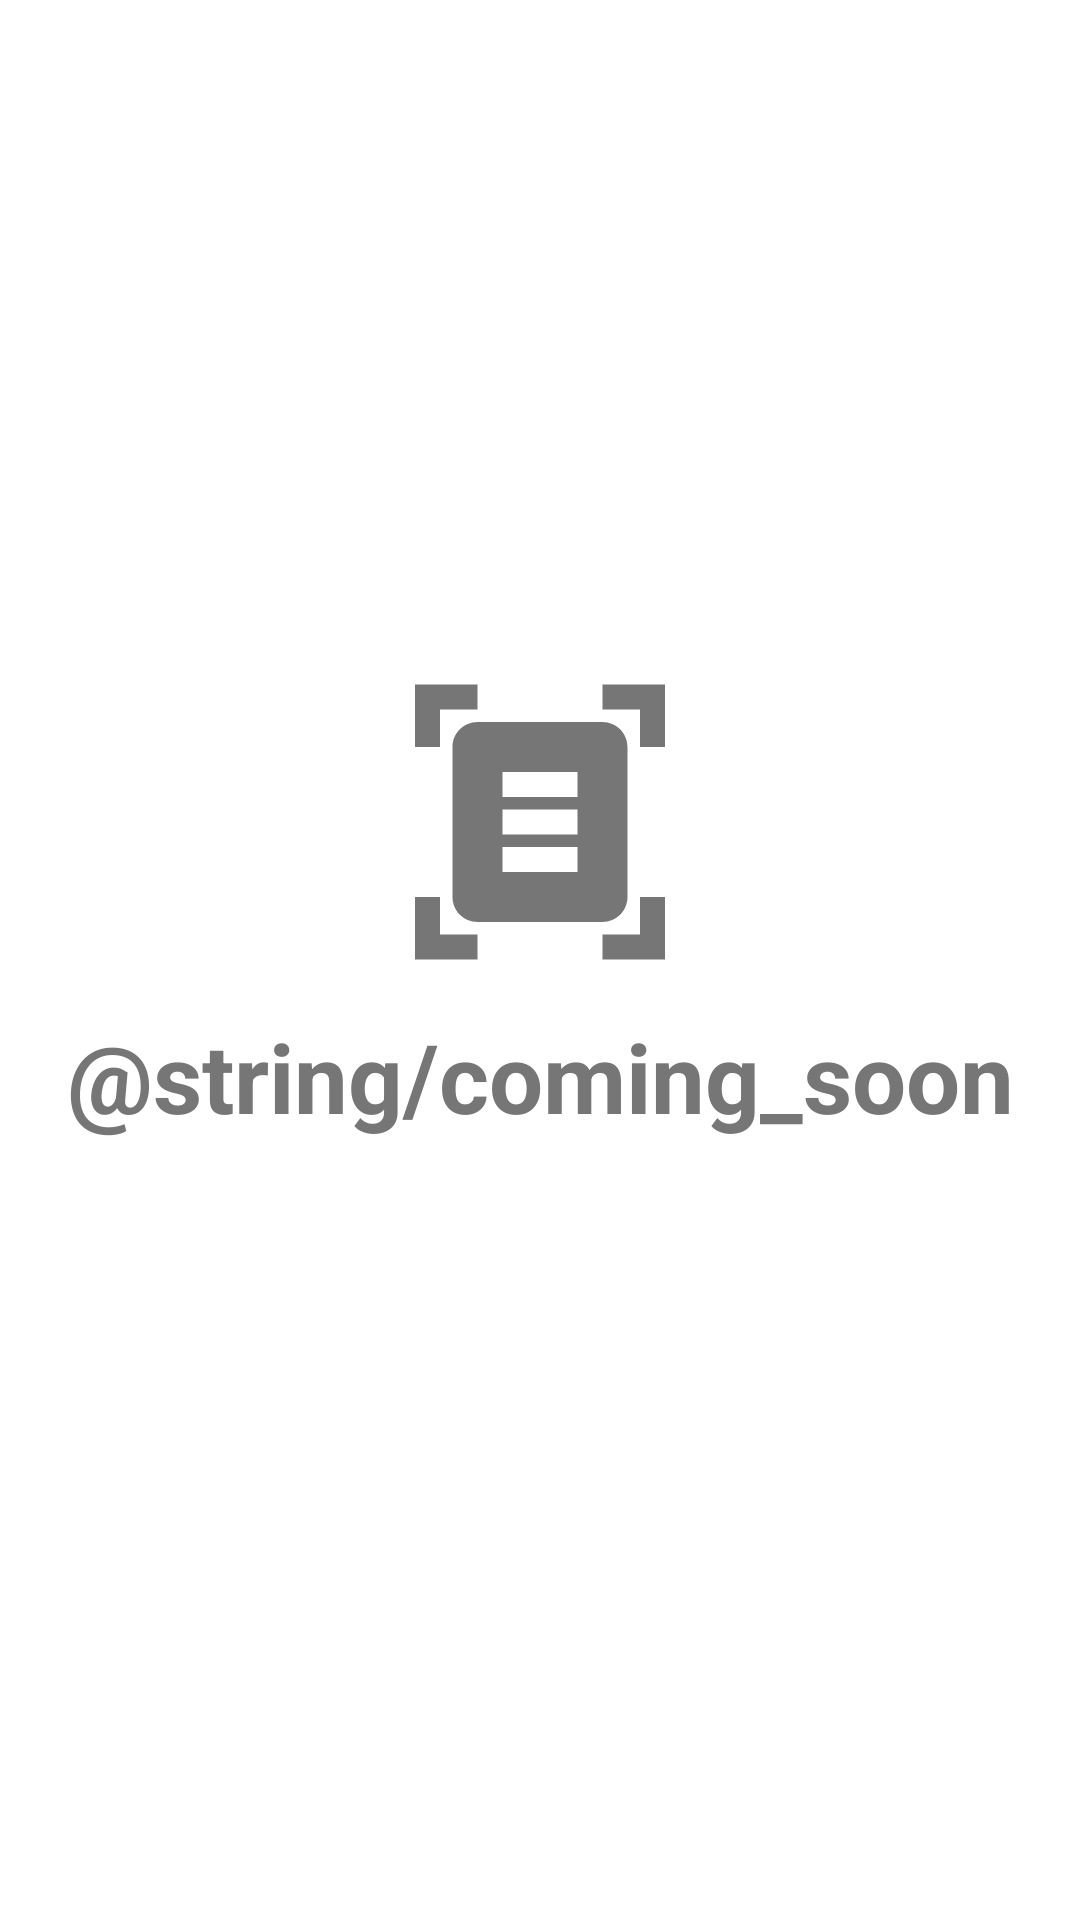

Icons on this 1080x1920 Android screen, each with the point to tap as (x,y):
document scanner: (540,822)
